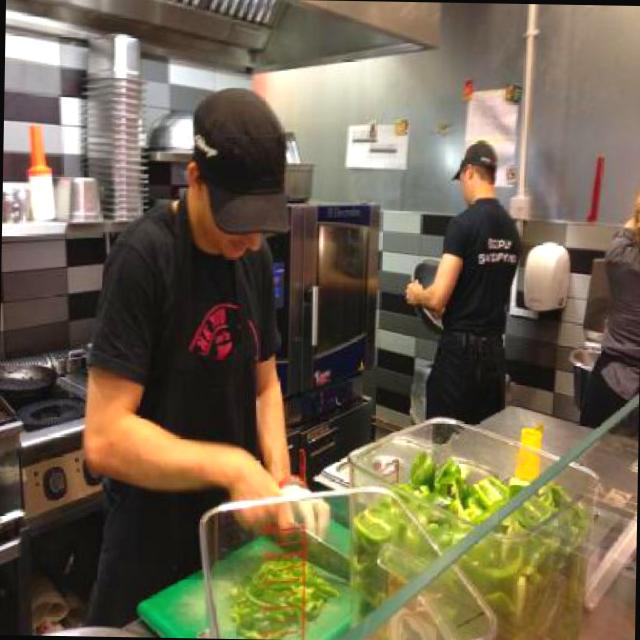Person: (80, 83, 327, 627), (405, 142, 514, 425), (577, 181, 640, 427)
